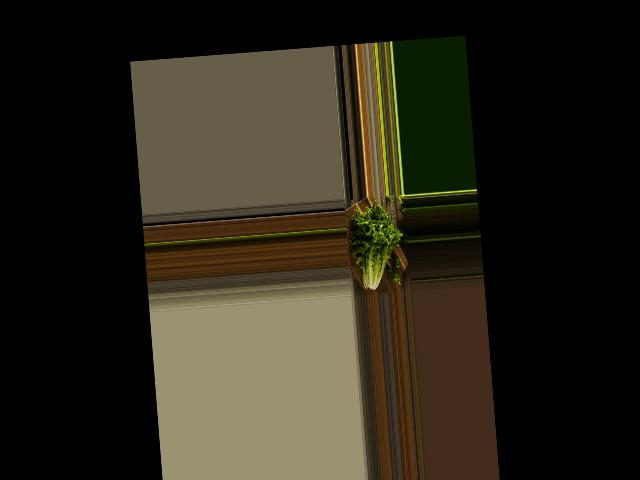lettuce: (347, 203, 405, 296)
